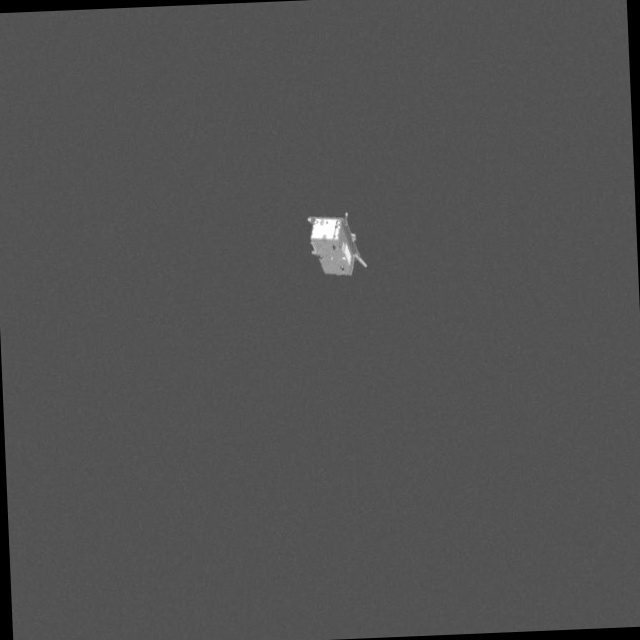medium_debris: (301, 202, 370, 283)
